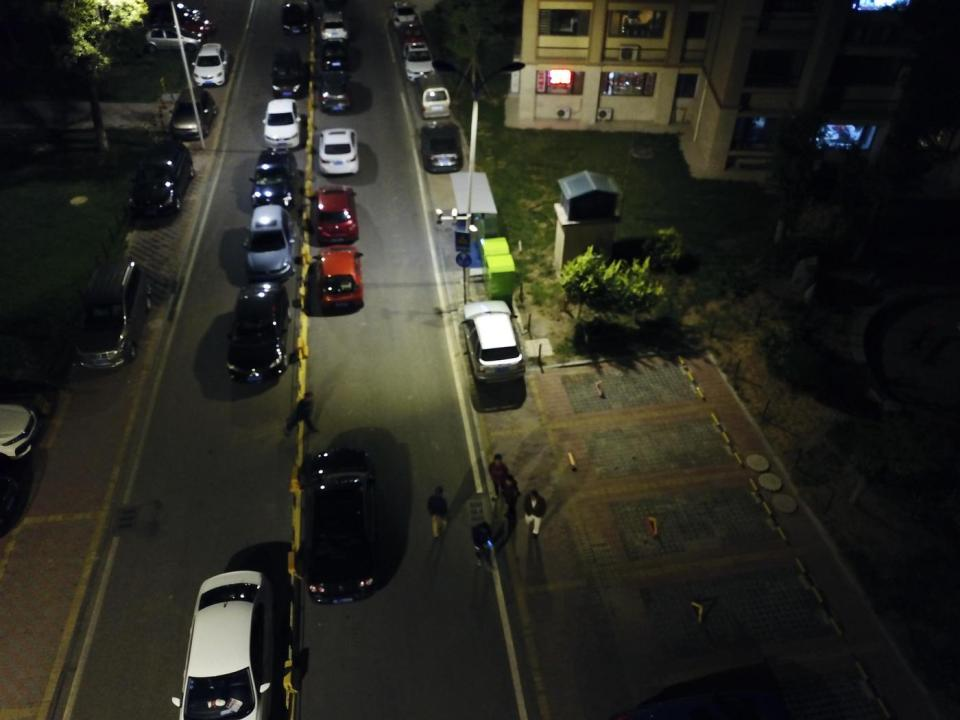car: (171, 570, 275, 720), (302, 448, 379, 605), (226, 281, 294, 384), (462, 300, 527, 383), (128, 140, 194, 218), (243, 204, 296, 281), (312, 243, 366, 312), (248, 148, 297, 207), (313, 185, 360, 244), (170, 88, 218, 140), (419, 121, 464, 174), (261, 97, 302, 149), (318, 127, 359, 175), (192, 43, 229, 88), (272, 47, 303, 98), (144, 26, 202, 53), (319, 69, 354, 112), (402, 42, 437, 82), (159, 16, 217, 37), (280, 0, 312, 35), (318, 10, 349, 41), (388, 0, 420, 30), (154, 3, 202, 22), (321, 38, 348, 70), (400, 23, 427, 46)
van: (75, 260, 153, 369), (416, 75, 453, 120)
